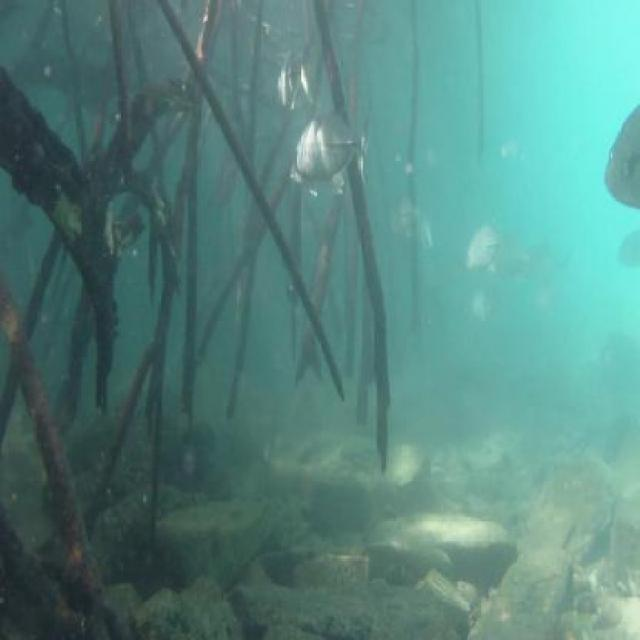Caranx_sexfasciatus_juvenile: (292, 104, 373, 208), (595, 99, 640, 210), (506, 229, 566, 311), (272, 40, 321, 129), (286, 164, 352, 222), (455, 206, 500, 282), (384, 174, 422, 251), (488, 218, 526, 294), (612, 225, 640, 286), (468, 282, 494, 338)
